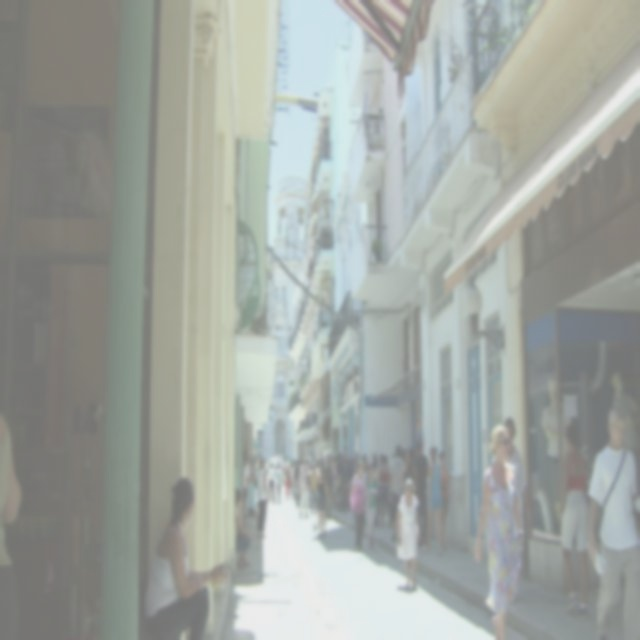pessoa: (142, 474, 231, 638), (586, 404, 640, 639), (472, 418, 524, 638), (555, 418, 593, 620), (0, 397, 25, 639), (540, 368, 569, 535), (503, 414, 533, 528), (394, 474, 421, 596), (421, 443, 444, 558), (324, 448, 357, 521), (609, 370, 639, 450), (412, 436, 432, 548), (387, 442, 407, 544), (349, 458, 369, 552), (235, 486, 252, 570), (364, 461, 379, 552), (438, 450, 451, 552), (254, 454, 269, 538), (376, 452, 392, 524), (314, 458, 328, 538), (298, 454, 310, 520), (308, 460, 320, 516), (242, 448, 250, 523), (289, 456, 301, 506), (266, 460, 276, 506), (404, 446, 416, 484), (283, 458, 292, 501), (370, 451, 383, 478), (274, 461, 282, 504), (362, 450, 368, 474), (401, 445, 407, 460), (391, 451, 396, 458)
